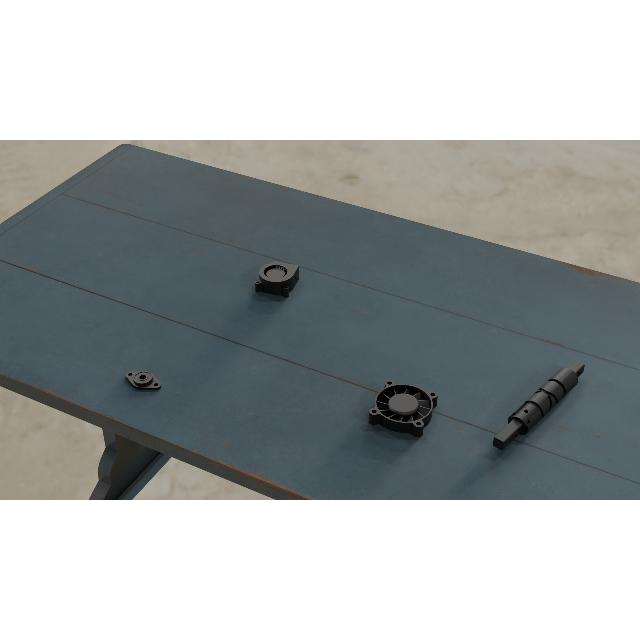Pieza1: (487, 354, 591, 458)
Pieza2: (119, 364, 168, 396)
Pieza3: (252, 259, 300, 299)
Pieza4: (366, 378, 440, 439)
